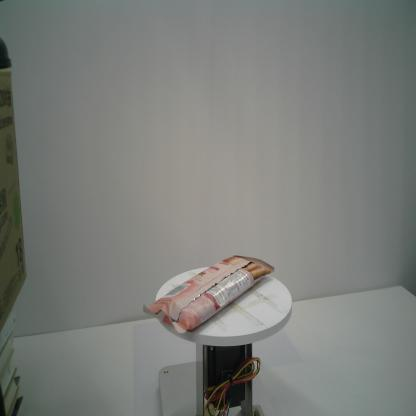Dessert: (140, 252, 277, 340)
